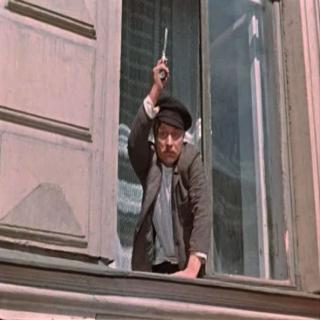gun: (147, 23, 174, 86)
